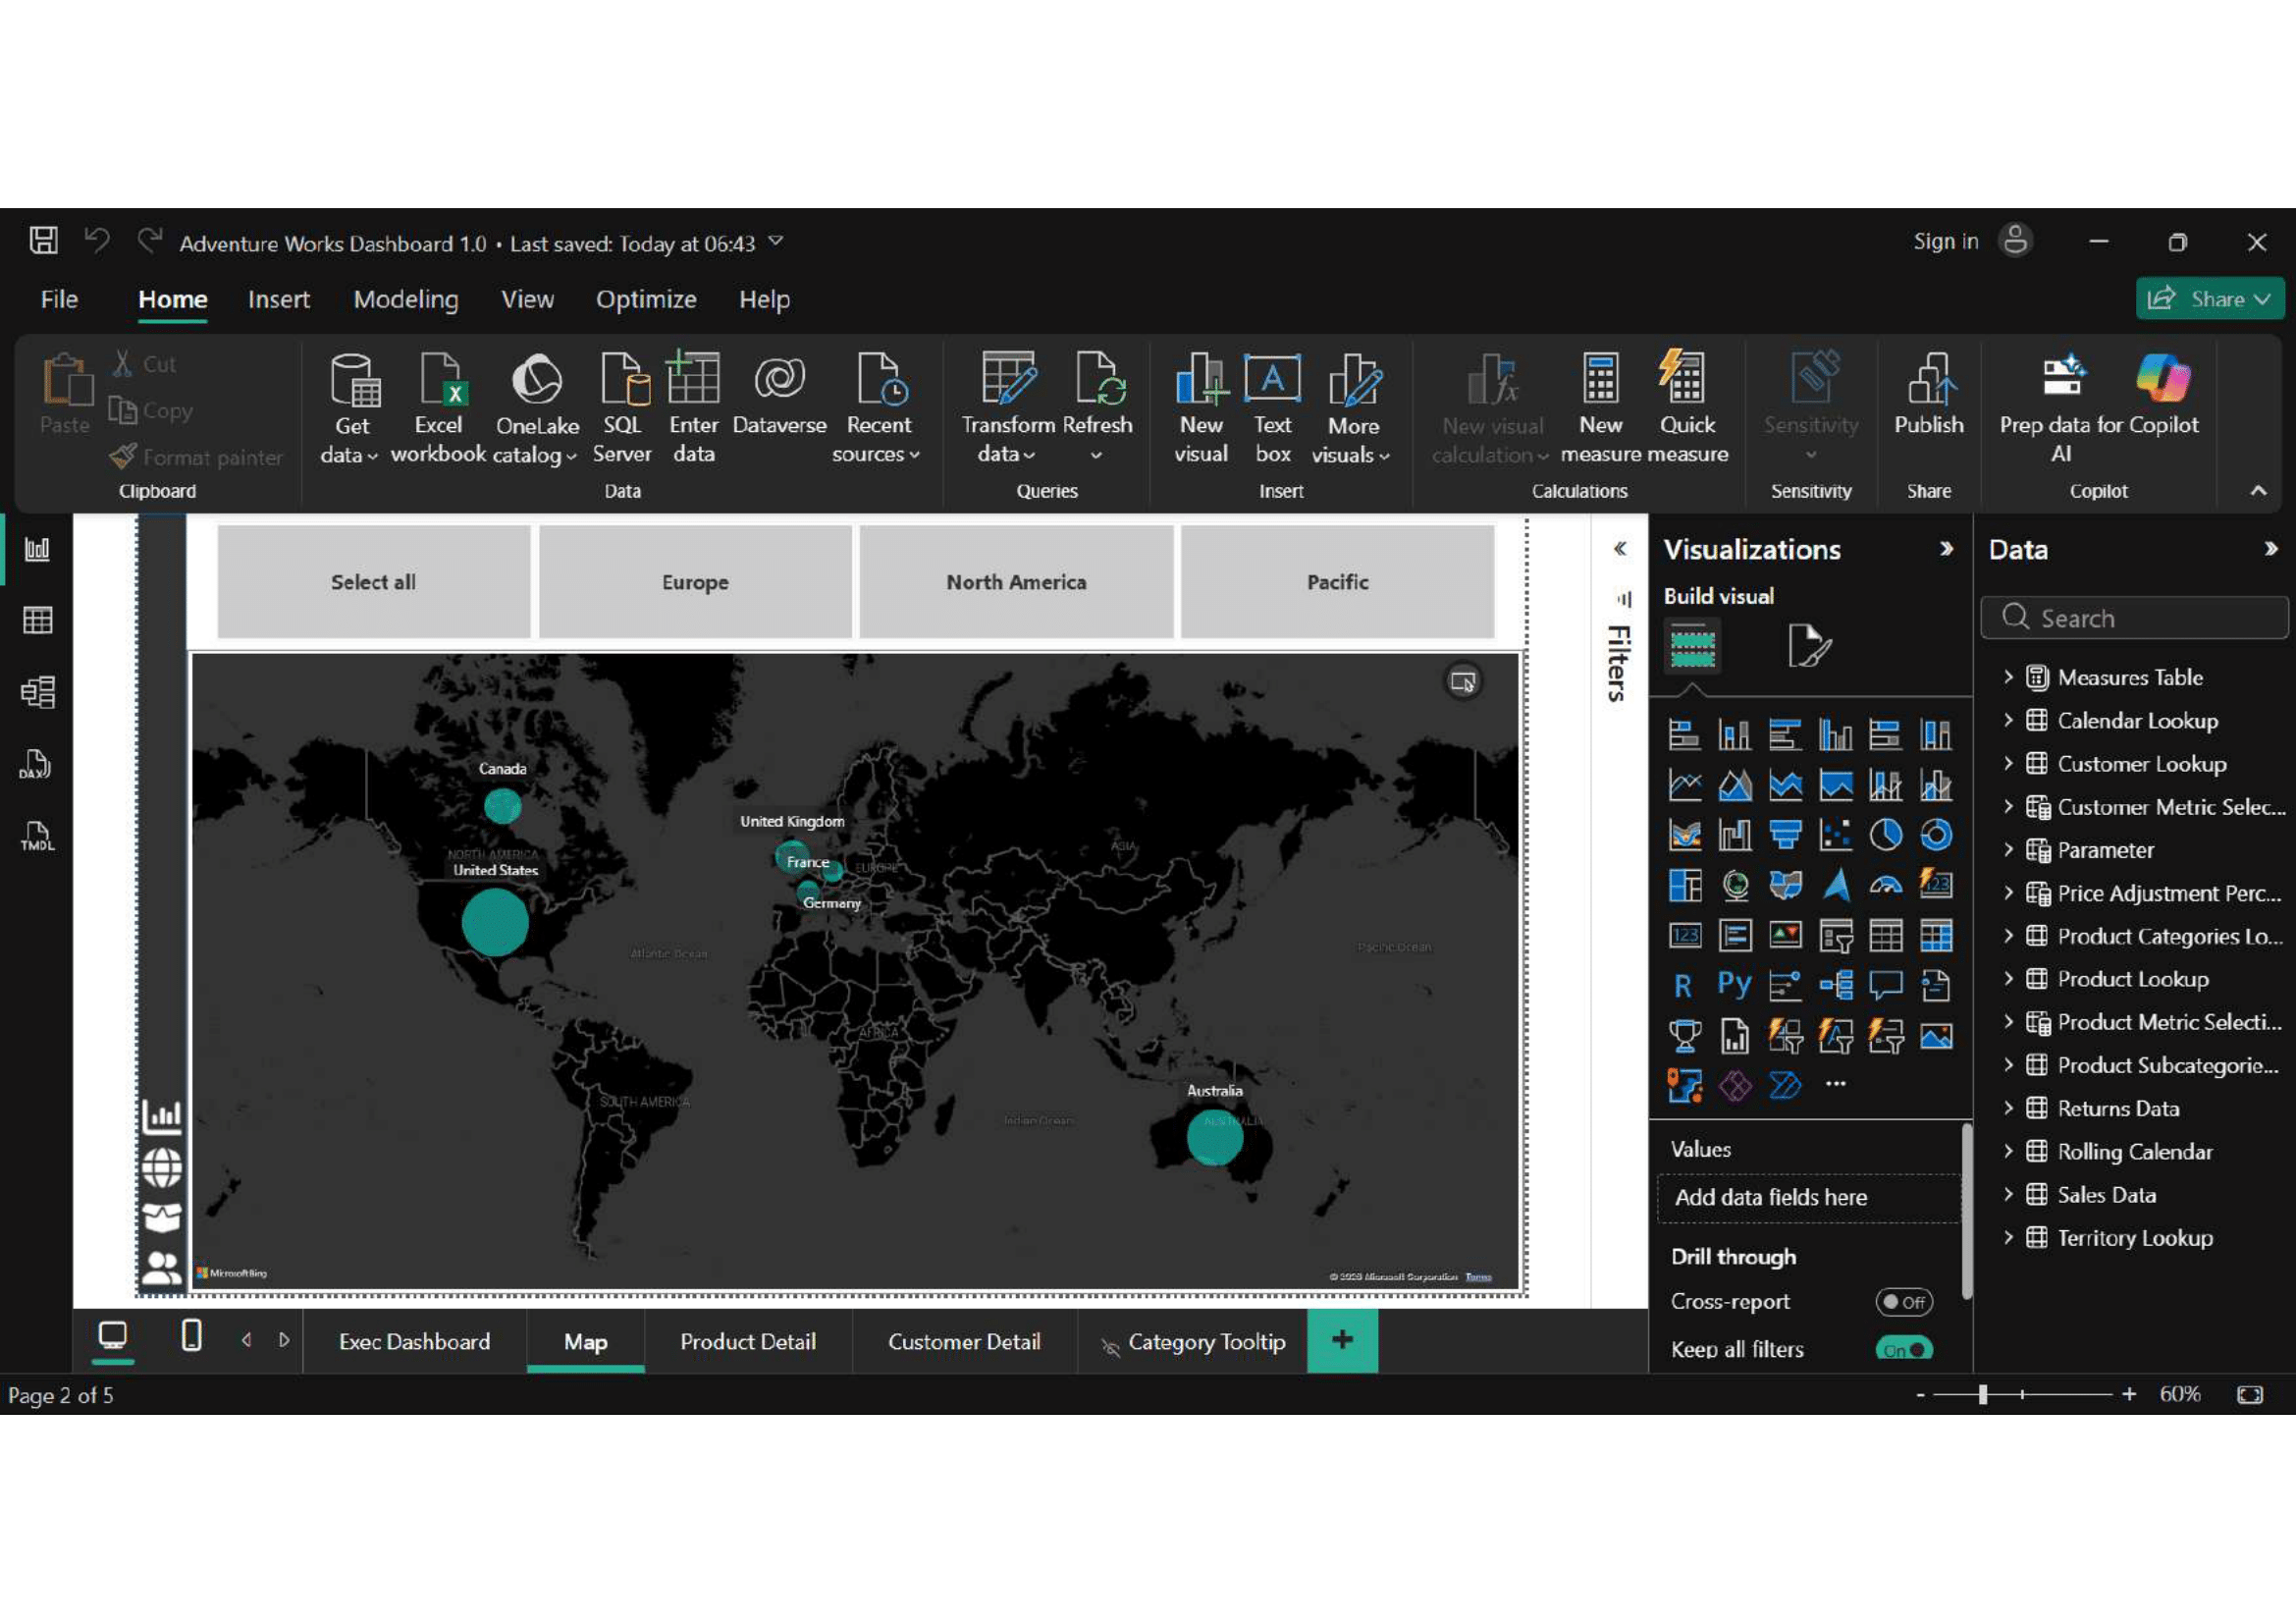

Layout of this report page (visuals, bound fields, positions):
{"tool":"powerbi","page":{"name":"Map","canvas":[1280,720],"ordinal":1},"visuals":[{"type":"shape","title":"Left Nav Background","box":[0,0,45,720],"z":0},{"type":"actionButton","box":[0,533.7,44.8,46.6],"z":0,"group":"g1"},{"type":"actionButton","box":[0,580.3,44.8,46.6],"z":1000,"group":"g1"},{"type":"map","fields":{"Category":["Territory Lookup.Country"],"Size":["Measures Table.Total Orders"]},"box":[45.3,124.6,1234.5,595.4],"z":1000},{"type":"slicer","fields":{"Values":["Territory Lookup.Continent"]},"box":[45.3,0,1234.5,124.6],"z":2000},{"type":"actionButton","box":[0,626.8,44.8,46.6],"z":2000,"group":"g1"},{"type":"actionButton","box":[0,673.4,44.8,46.6],"z":3000,"group":"g1"},{"type":"group","id":"g1","title":"Navigation Buttons","box":[0,533.7,44.8,186.3],"z":3000}]}

Visuals, with their boxes on the page's 1280x720 design canvas (x1, y1, x2, y2). These are canvas units, not pixel positions in the 2296x1623 screenshot, which may show the page scaled, cropped or inside an application window:
"Left Nav Background" shape: l=0, t=0, r=45, b=720
actionButton: l=0, t=534, r=45, b=580
actionButton: l=0, t=580, r=45, b=627
map - Territory Lookup.Country x Measures Table.Total Orders: l=45, t=125, r=1280, b=720
slicer - Territory Lookup.Continent: l=45, t=0, r=1280, b=125
actionButton: l=0, t=627, r=45, b=673
actionButton: l=0, t=673, r=45, b=720
"Navigation Buttons" group: l=0, t=534, r=45, b=720
